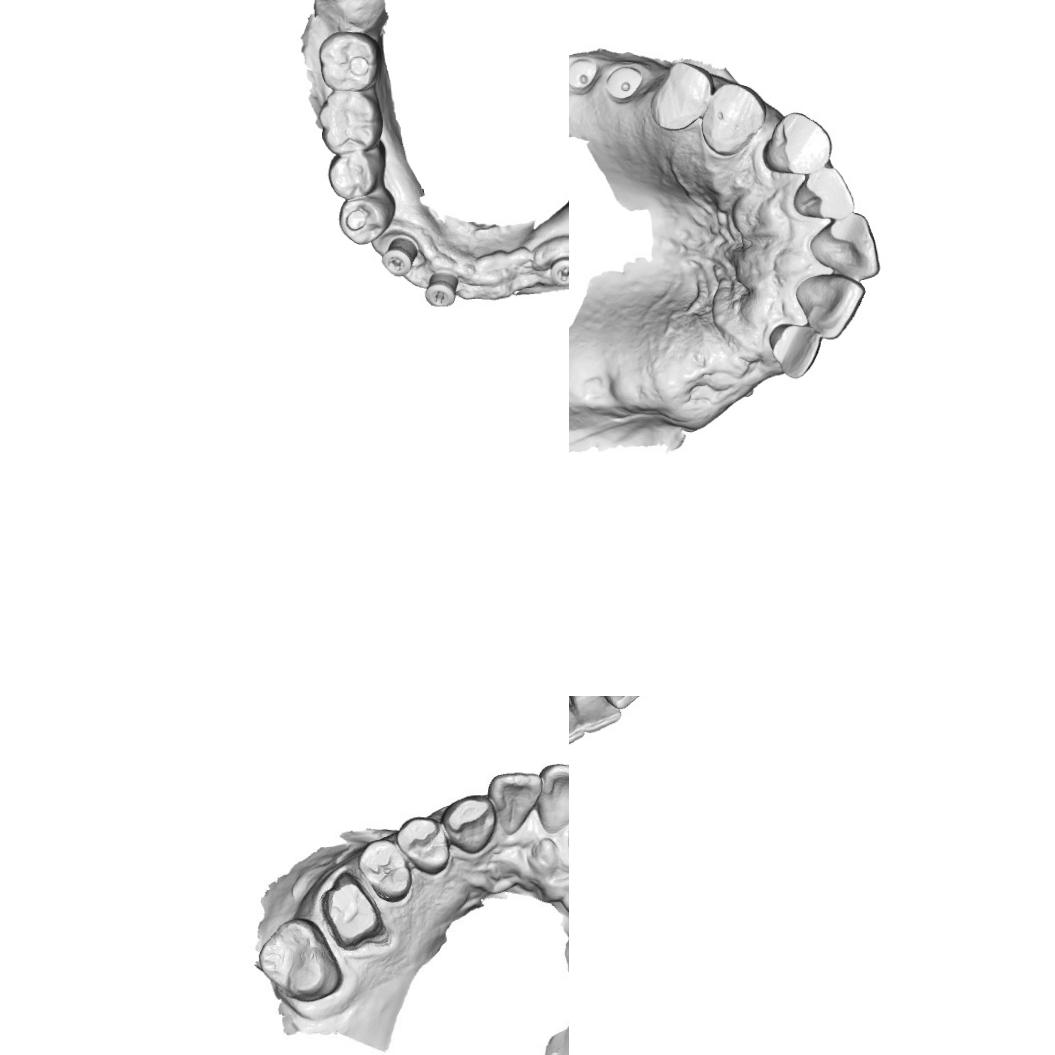canine: (761, 111, 836, 176), (441, 791, 497, 854)
crown: (326, 874, 384, 948)
implant: (569, 54, 602, 99), (606, 64, 645, 100)
implant_minus: (422, 274, 459, 308)
implant_plus: (381, 240, 419, 276), (548, 258, 569, 291)
incisor: (808, 210, 881, 280), (793, 272, 868, 340), (488, 766, 542, 838), (793, 166, 856, 220), (767, 322, 824, 380), (536, 761, 569, 832), (569, 696, 621, 732), (590, 696, 648, 712), (569, 696, 584, 748)
molar: (256, 914, 340, 1004), (316, 88, 384, 156), (317, 28, 382, 92)
premolar: (648, 59, 716, 133), (701, 80, 767, 156), (394, 811, 454, 876), (356, 836, 413, 904), (326, 146, 379, 201), (337, 195, 391, 245)
